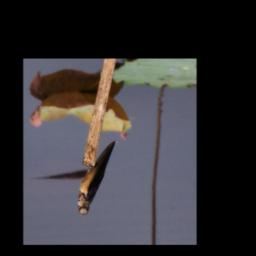Swallow: (77, 138, 117, 216)
